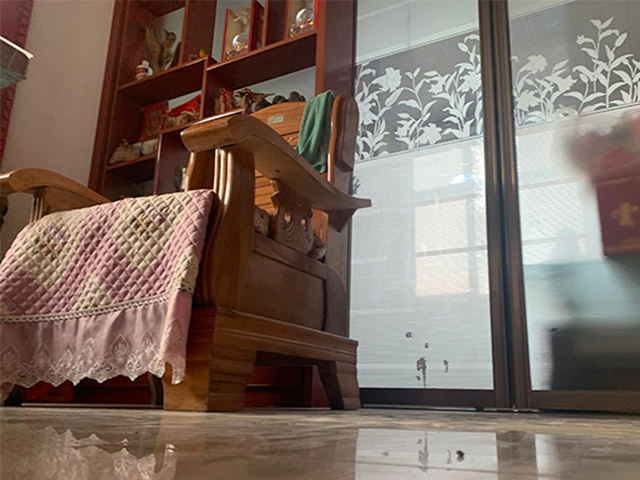sofa: (1, 92, 374, 412)
